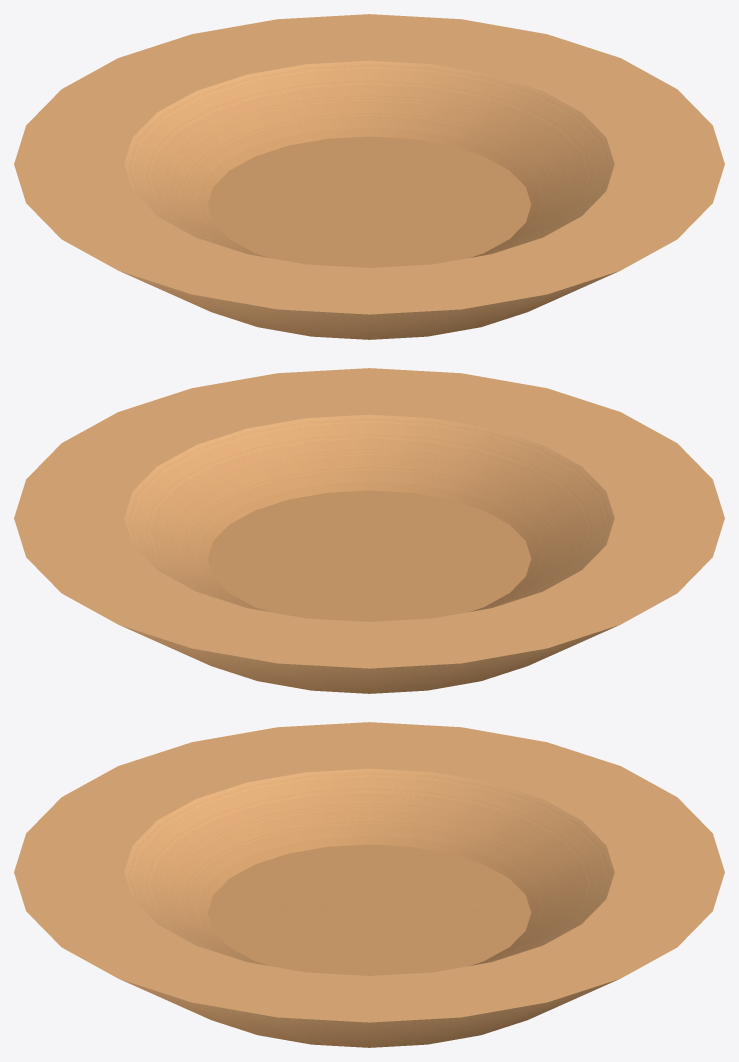
File: detail-plate.glb
The picture shows the model from 3 angles, top to bottom: view 1: azimuth 30°, elevation 25°; view 2: azimuth 150°, elevation 25°; view 3: azimuth 270°, elevation 25°; orthographic projection.
Parts seen in each view (by area): view 1: detail-plate; view 2: detail-plate; view 3: detail-plate.
Boxes of the visible parts, x1,y1,x2,y2 form: detail-plate: [14, 14, 724, 339]; detail-plate: [14, 368, 724, 693]; detail-plate: [14, 722, 724, 1047].
Bounding box in the file's own units: 0.7606 × 0.0957 × 0.7606.
1 material, 1 textured.
